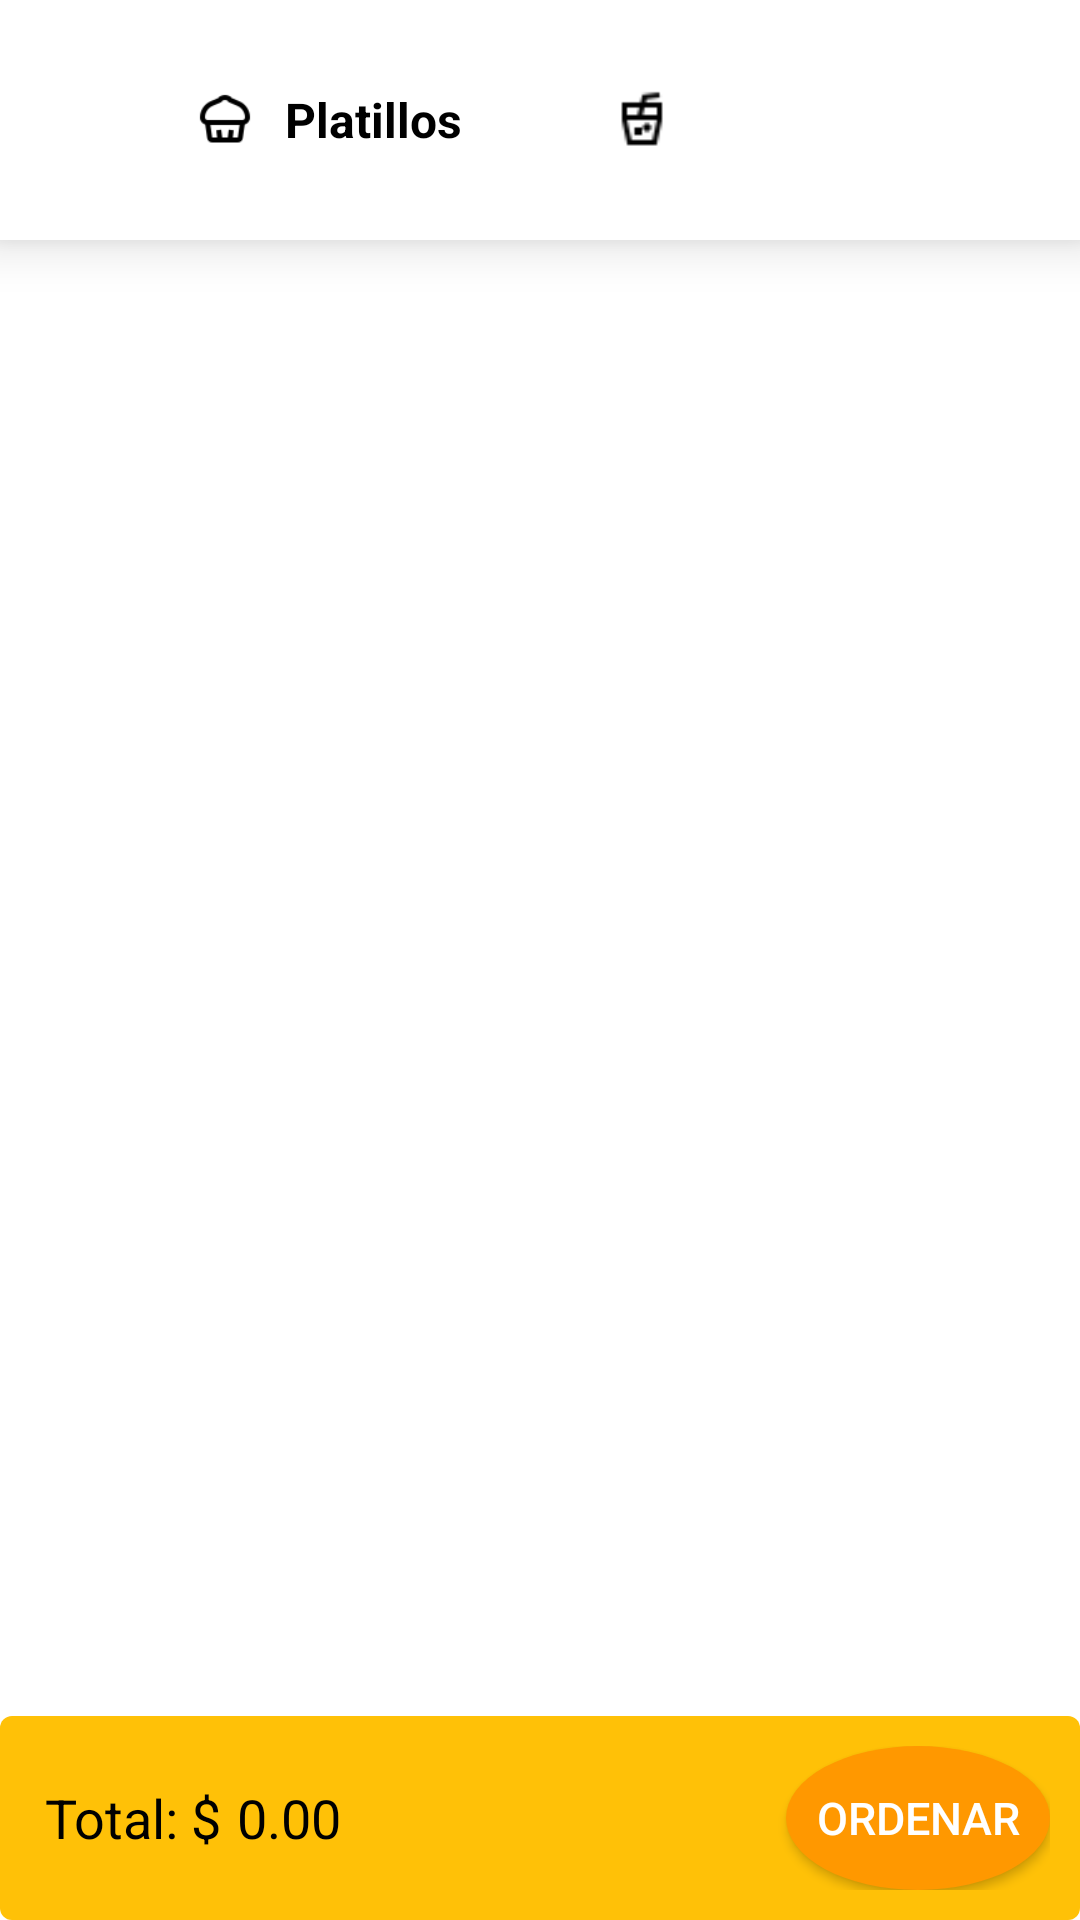

Icons on this 1080*1920 Android screen, each with the point to tap as [x,y]:
drinks: [642,119]
food: [224,119]
